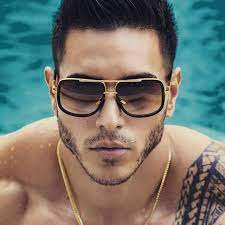g.y: (57, 75, 106, 118)
